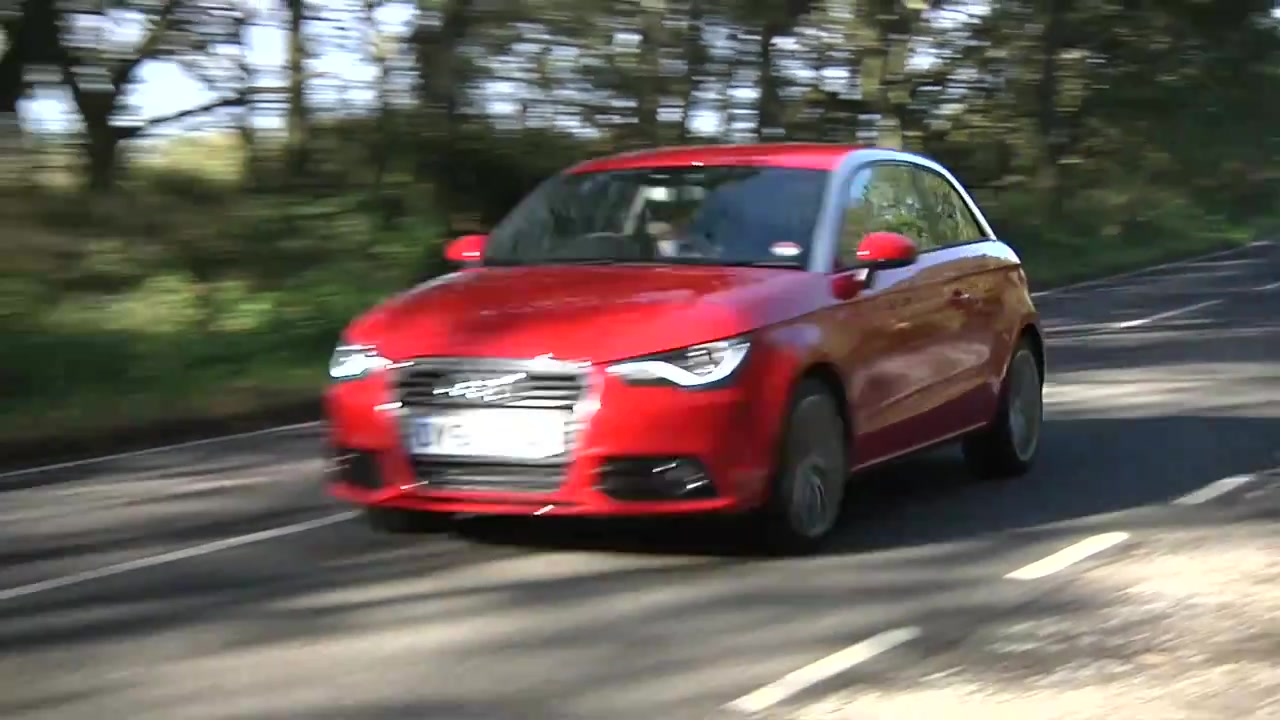car: (318, 139, 1050, 558)
